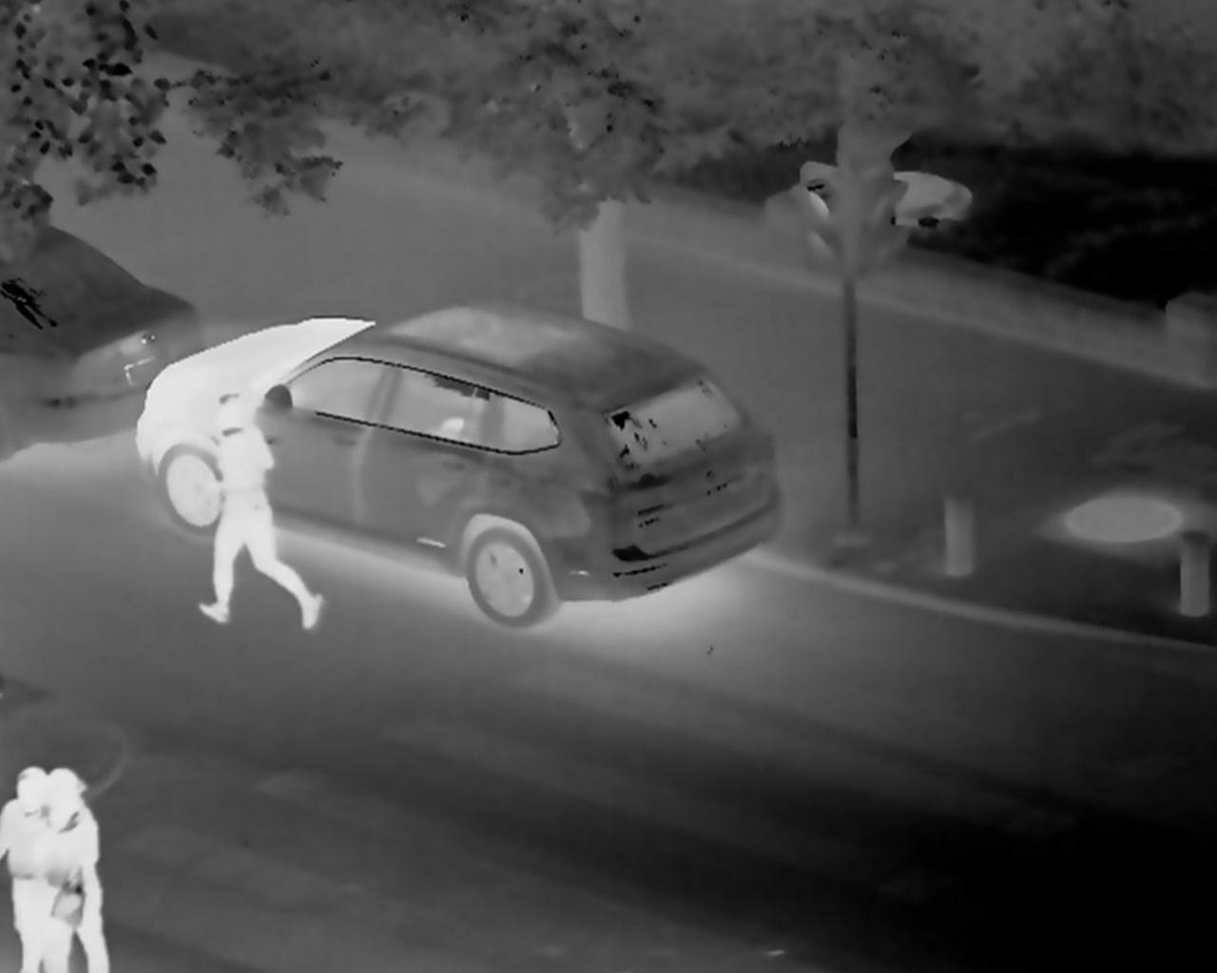person: (203, 396, 328, 645), (52, 769, 124, 959)
